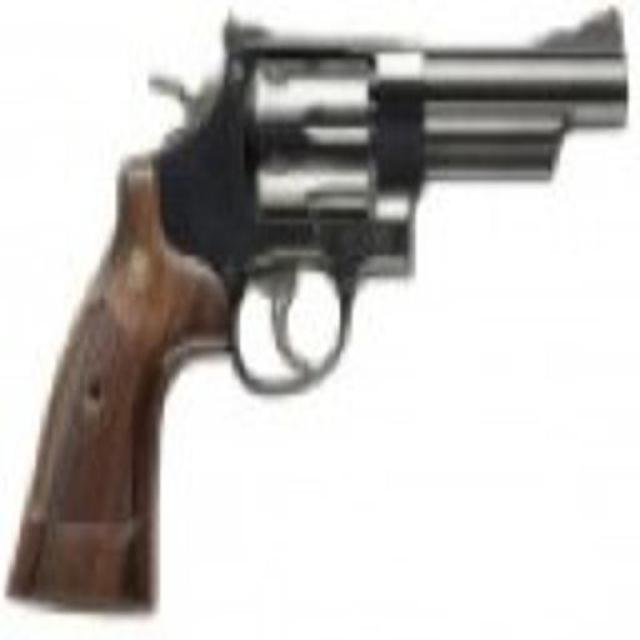pistol: (4, 5, 624, 607)
